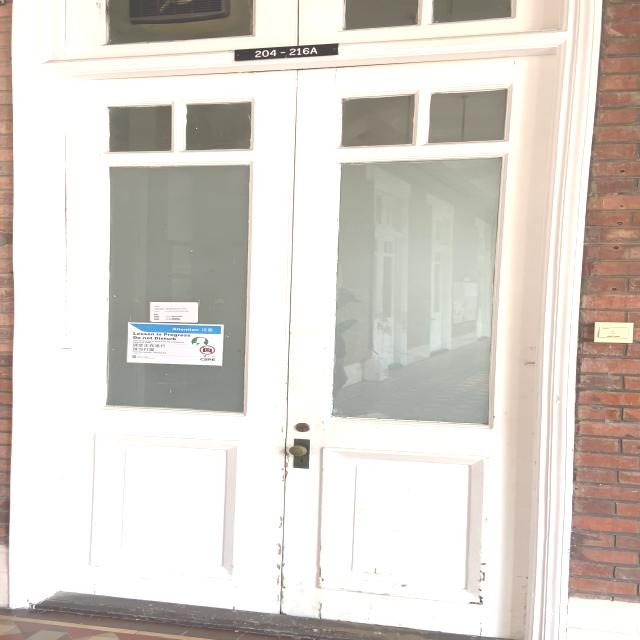room204: (228, 39, 340, 64)
